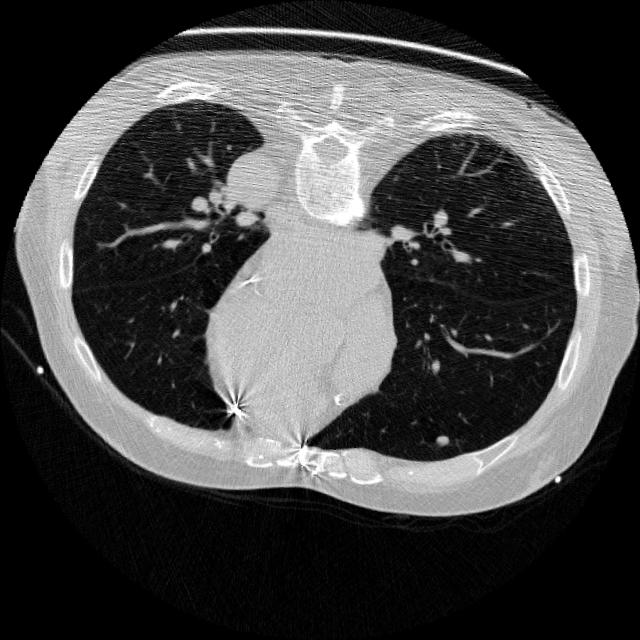nodule: (429, 428, 458, 457)
